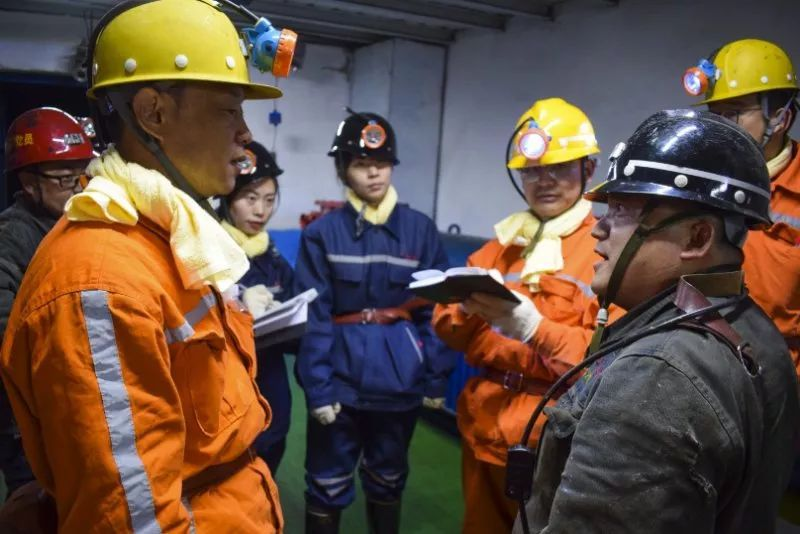helmet: (76, 3, 255, 195), (594, 103, 758, 298), (502, 97, 604, 223)
